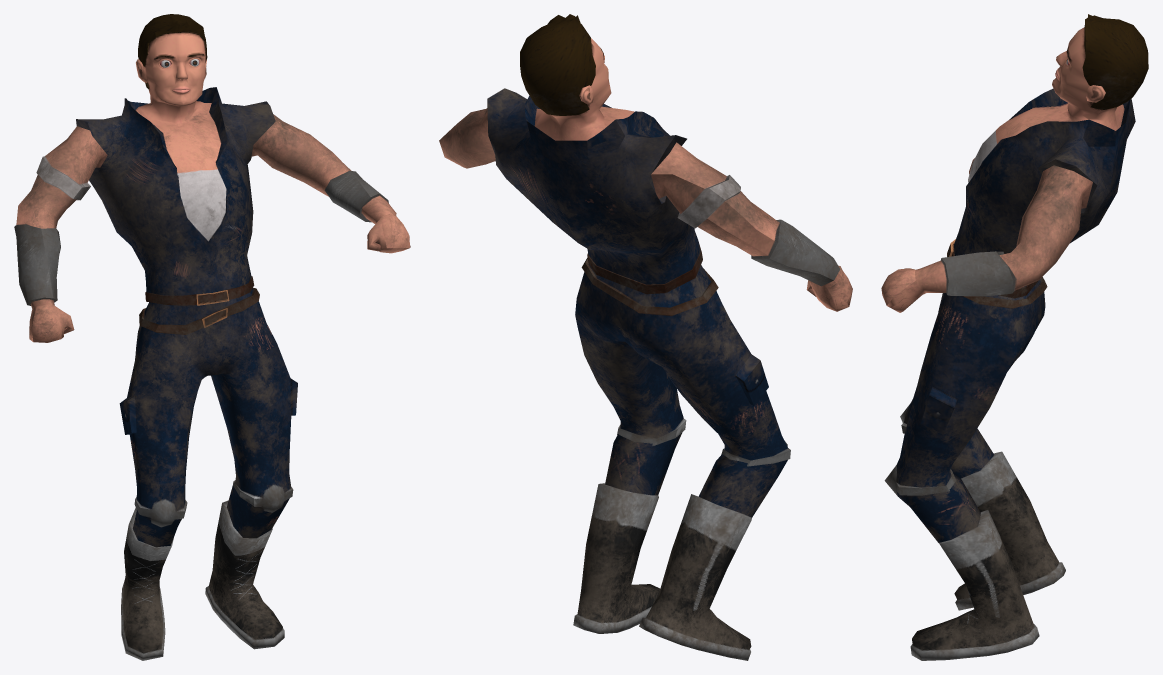
Rendered from Anim_recibirdanyo_jugador.0015.obj.
The picture shows the model from 3 angles, left to right: view 1: azimuth 30°, elevation 25°; view 2: azimuth 150°, elevation 25°; view 3: azimuth 270°, elevation 25°; orthographic projection. The views are drawn at different scales.
Parts seen in each view (by area): view 1: polySurface1; view 2: polySurface1; view 3: polySurface1.
Part boxes in pixels (box(x1,y1,x2,y2)): polySurface1: box(14, 14, 410, 660); polySurface1: box(439, 14, 852, 660); polySurface1: box(881, 14, 1148, 660).
Size of the model in its own units: 5.65 by 9.12 by 3.46.
